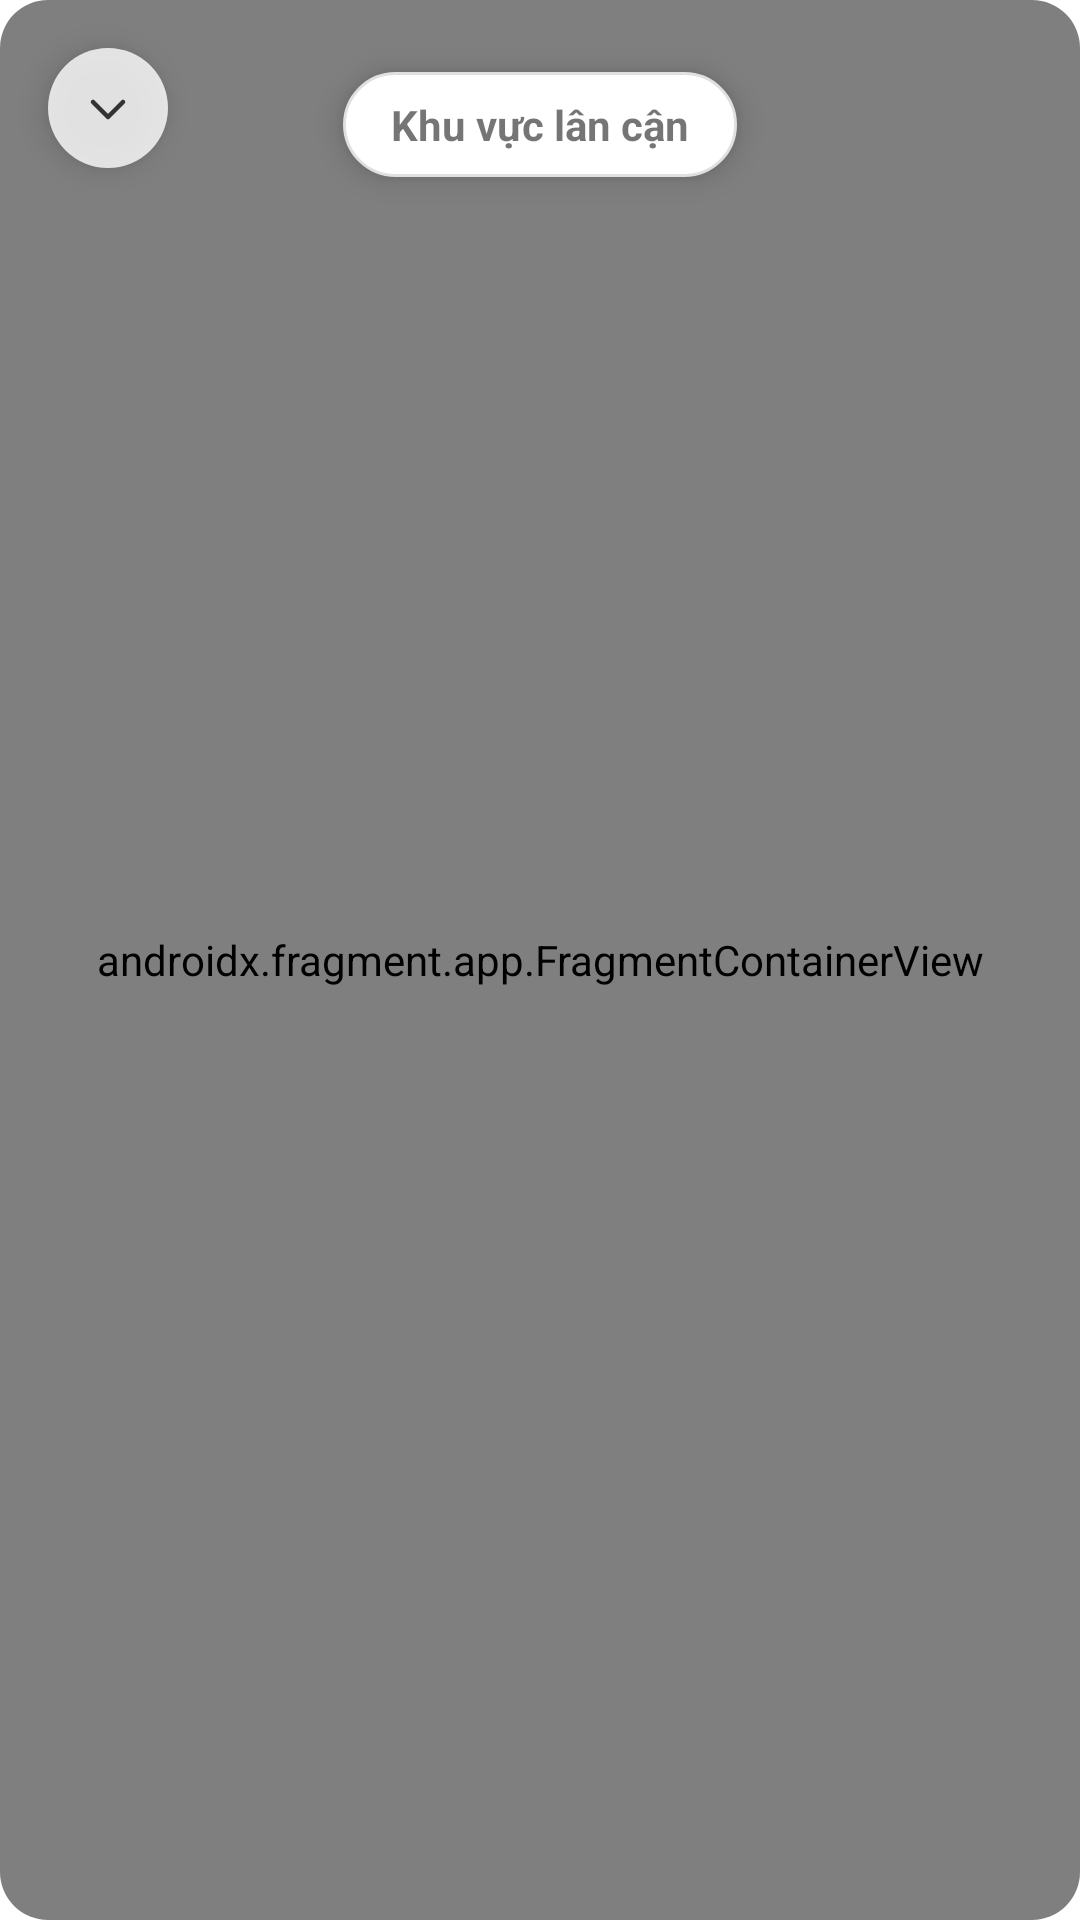

Point at icon controls on the screen. Image size 1080px×1920px, points as (x,y).
keyboard arrow down: (108,108)
